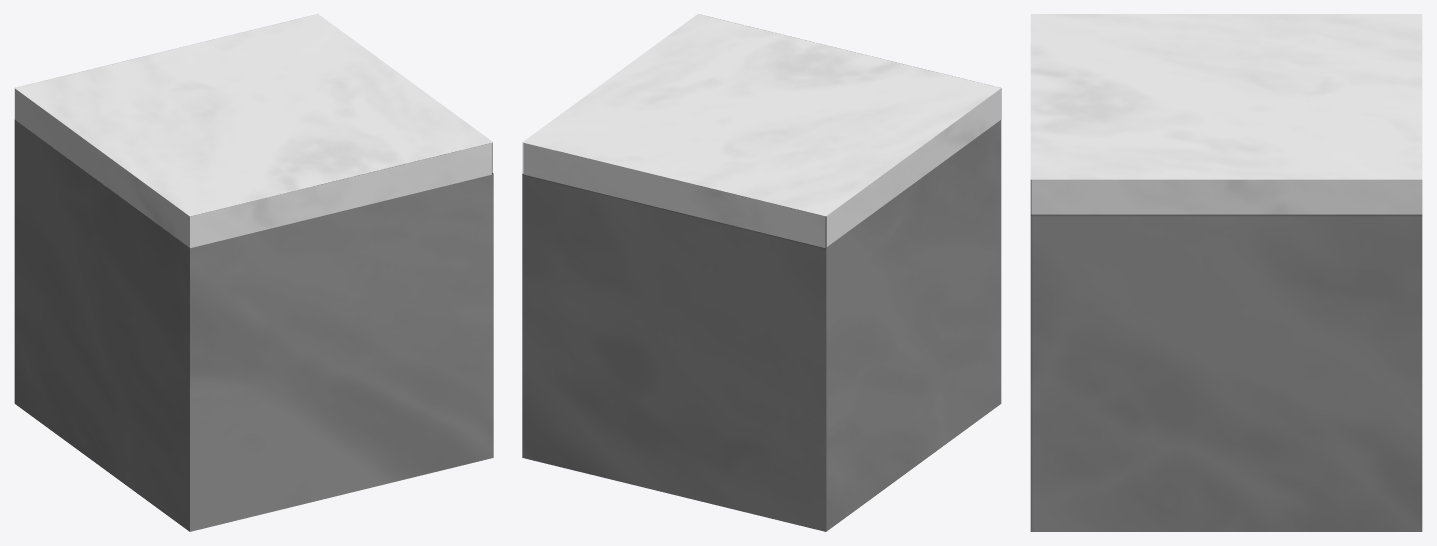
Rendered from balcao 2.fbx.
The picture shows the model from 3 angles, left to right: view 1: azimuth 30°, elevation 25°; view 2: azimuth 150°, elevation 25°; view 3: azimuth 270°, elevation 25°; orthographic projection. The views are drawn at different scales.
Parts seen in each view (by area): view 1: Cube; view 2: Cube; view 3: Cube.
Part boxes in pixels (bbox=[...]): Cube: bbox=[14, 14, 493, 531]; Cube: bbox=[522, 14, 1001, 531]; Cube: bbox=[1030, 14, 1422, 531].
Size of the model in its own units: 200 by 199 by 200.
